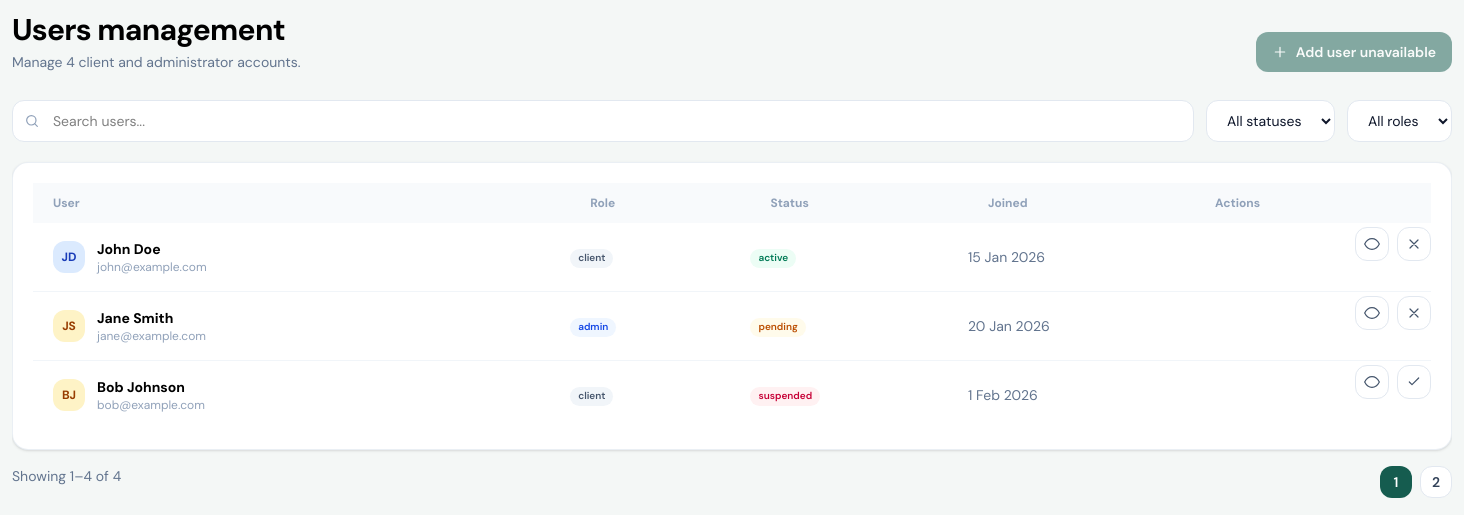
Test case: AdminUsers › paginates to next page
expect the text "John Doe" is shown: met, box [97,240,161,258]
Click the button named "Go to page 2".
click(1436, 482)  # box [1420,466,1452,498]
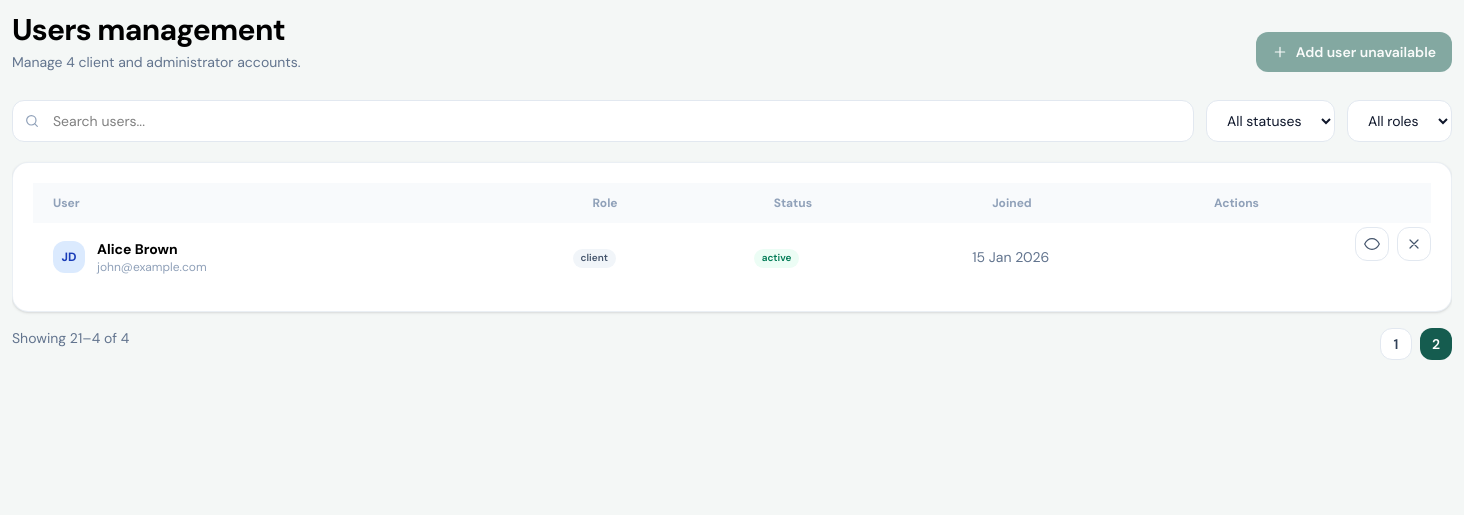
expect the text "Alice Brown" is shown: met, box [97,240,178,258]
